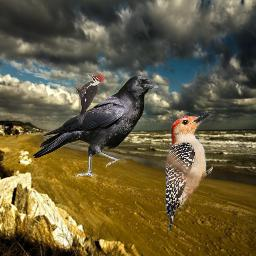Crow: (33, 74, 162, 180)
Woodpecker: (165, 110, 213, 231), (73, 73, 105, 125)
